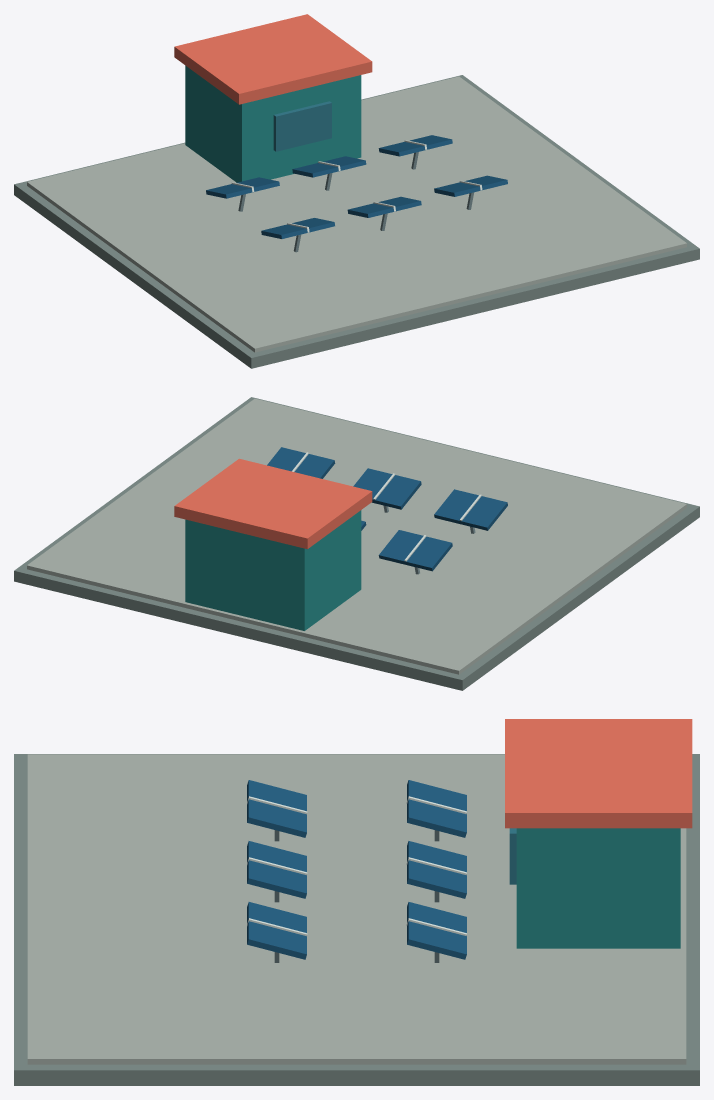
The model's file is solar_lv1.glb.
3 views of the same model, one above another, from view 1: azimuth 30°, elevation 25°; view 2: azimuth 150°, elevation 25°; view 3: azimuth 270°, elevation 25° (orthographic). The views are drawn at different scales.
Parts seen in each view (by area): view 1: concrete, pavement, teal, coral, solar, glassDark; view 2: concrete, teal, pavement, coral, solar; view 3: concrete, pavement, coral, teal, solar, white.
Boxes of the visible parts, x1,y1,x2,y2 form: concrete: (27,76,686,352); pavement: (14,75,699,368); teal: (185,65,361,182); coral: (174,14,372,104); solar: (206,135,507,238); glassDark: (273,101,331,151); concrete: (27,398,686,674); teal: (185,510,361,630); pavement: (14,397,699,690); coral: (174,458,372,549); solar: (267,447,507,571); concrete: (27,754,686,1064); pavement: (14,754,699,1085); coral: (505,719,692,828); teal: (516,828,680,948); solar: (247,780,466,959); white: (247,796,466,936).
Size of the model in its own units: 9.6 by 2.29 by 8.8.
